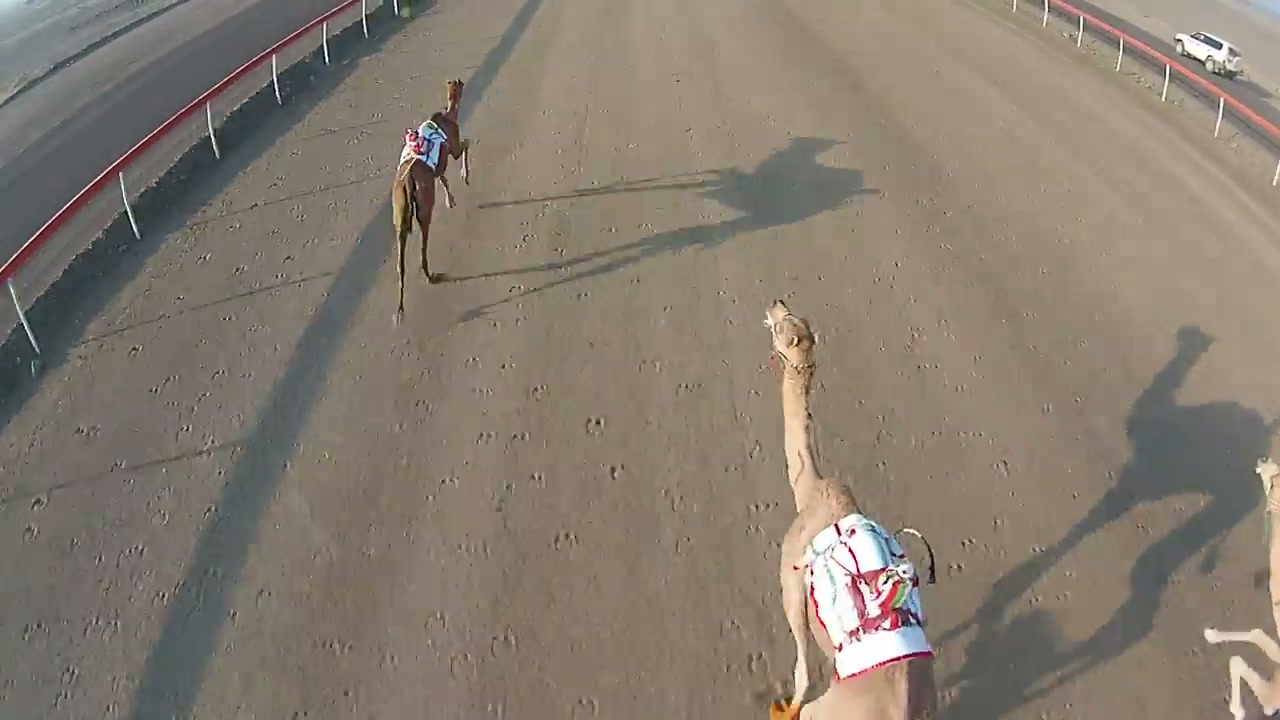animal_foot_print: (0, 169, 318, 673), (384, 218, 615, 678)
